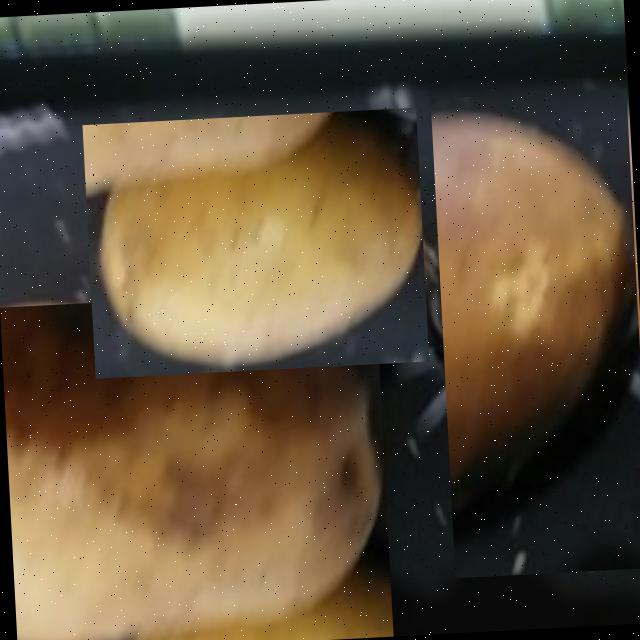Damaged potato: (0, 287, 393, 640), (429, 87, 640, 577)
Potato: (81, 107, 428, 378)
